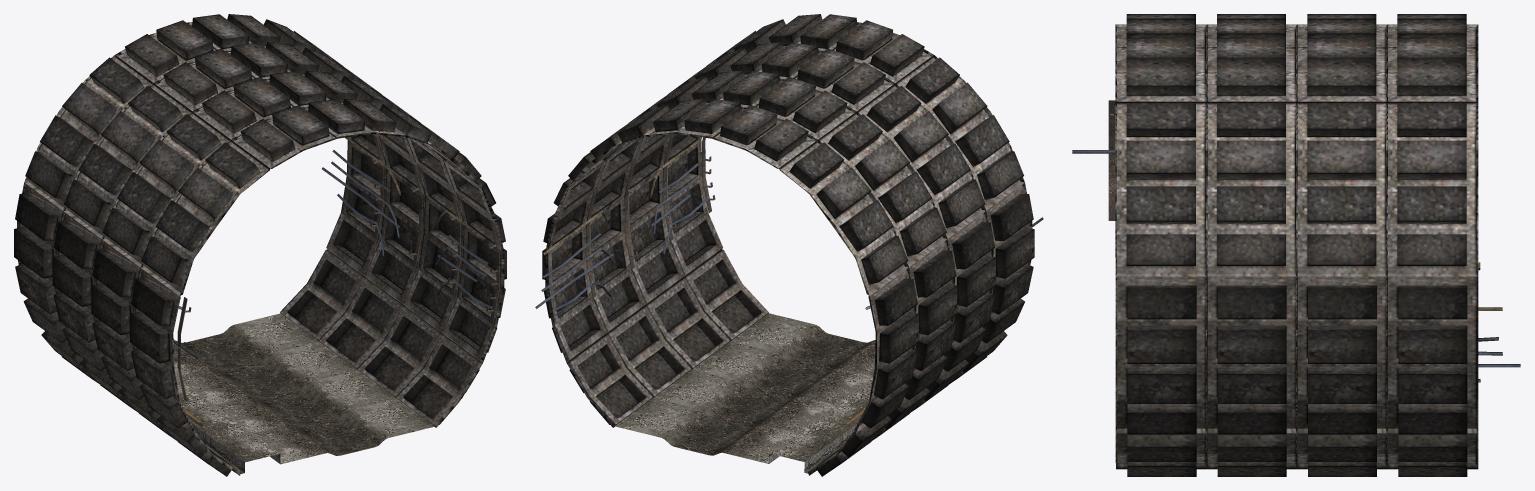
The model's file is tunnel_zelezo_provoda.obj.
The picture shows the model from 3 angles, left to right: view 1: azimuth 30°, elevation 25°; view 2: azimuth 150°, elevation 25°; view 3: azimuth 270°, elevation 25°; orthographic projection. The views are drawn at different scales.
Visible parts, largest first — view 1: concrete34_opalubka_tunnel_ao, concrete34_opalubka_tunnel_ao001, concrete34_opalubka_tunnel_ao003, concrete34_opalubka_tunnel_ao002, floor_tunnel_pod, floor_tunnel_pod001, floor_tunnel_pod002, floor_tunnel_pod003, metal_corr_dsc, metal_trub_tonnel, metal_trub_tonnel003, metal_trub_tonnel004; view 2: concrete34_opalubka_tunnel_ao002, concrete34_opalubka_tunnel_ao003, concrete34_opalubka_tunnel_ao001, concrete34_opalubka_tunnel_ao, floor_tunnel_pod003, floor_tunnel_pod002, floor_tunnel_pod001, floor_tunnel_pod, metal_trub_tonnel003, metal_trub_tonnel; view 3: concrete34_opalubka_tunnel_ao, concrete34_opalubka_tunnel_ao002, concrete34_opalubka_tunnel_ao001, concrete34_opalubka_tunnel_ao003, metal_corr_dsc, metal_trub_tonnel003.
Boxes of the visible parts, x1,y1,x2,y2 form: concrete34_opalubka_tunnel_ao: (130,99,506,476); concrete34_opalubka_tunnel_ao001: (91,70,463,441); concrete34_opalubka_tunnel_ao003: (52,42,424,412); concrete34_opalubka_tunnel_ao002: (14,14,386,384); floor_tunnel_pod: (206,398,434,473); floor_tunnel_pod001: (180,370,395,444); floor_tunnel_pod002: (176,342,357,404); floor_tunnel_pod003: (173,313,318,376); metal_corr_dsc: (177,219,499,402); metal_trub_tonnel: (173,136,492,427); metal_trub_tonnel003: (322,137,376,224); metal_trub_tonnel004: (360,153,400,256); concrete34_opalubka_tunnel_ao002: (542,99,918,476); concrete34_opalubka_tunnel_ao003: (585,70,957,441); concrete34_opalubka_tunnel_ao001: (624,42,995,412); concrete34_opalubka_tunnel_ao: (663,14,1034,384); floor_tunnel_pod003: (615,398,843,473); floor_tunnel_pod002: (653,370,868,444); floor_tunnel_pod001: (692,341,873,404); floor_tunnel_pod: (730,313,875,376); metal_trub_tonnel003: (535,136,874,429); metal_trub_tonnel: (651,140,1043,226); concrete34_opalubka_tunnel_ao: (1115,14,1207,476); concrete34_opalubka_tunnel_ao002: (1386,14,1478,476); concrete34_opalubka_tunnel_ao001: (1205,14,1297,476); concrete34_opalubka_tunnel_ao003: (1296,14,1387,476); metal_corr_dsc: (1108,100,1115,220); metal_trub_tonnel003: (1478,262,1520,382).
Bounding box in the file's own units: 9.44 × 8.51 × 9.04.
Materials: 6 (6 with a texture image).
